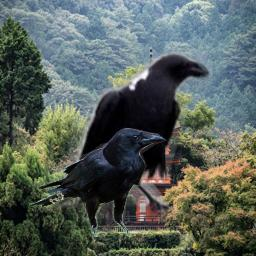Crow: (45, 49, 213, 240), (29, 128, 167, 237)
